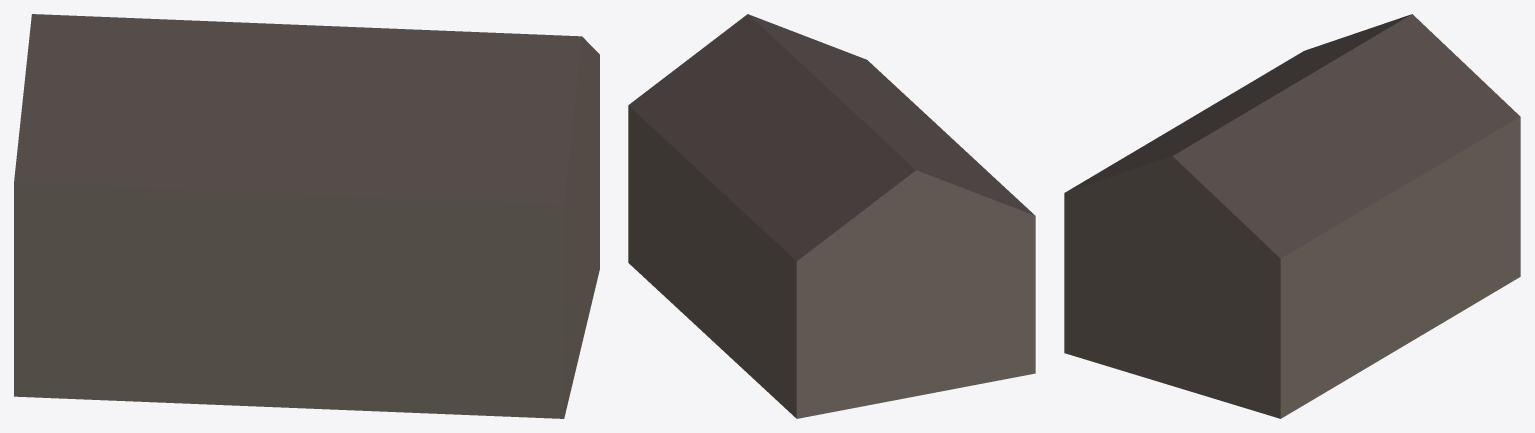
3 renders of one model, left to right at view 1: azimuth 30°, elevation 25°; view 2: azimuth 150°, elevation 25°; view 3: azimuth 270°, elevation 25°, orthographic. The views are drawn at different scales.
Visible parts, largest first — view 1: HP-w859488836; view 2: HP-w859488836; view 3: HP-w859488836.
Part boxes in pixels (<box>): HP-w859488836: <box>14,14,599,418</box>; HP-w859488836: <box>628,14,1035,418</box>; HP-w859488836: <box>1064,14,1520,418</box>.
Bounding box in the file's own units: 25.05 × 12.92 × 23.22.
